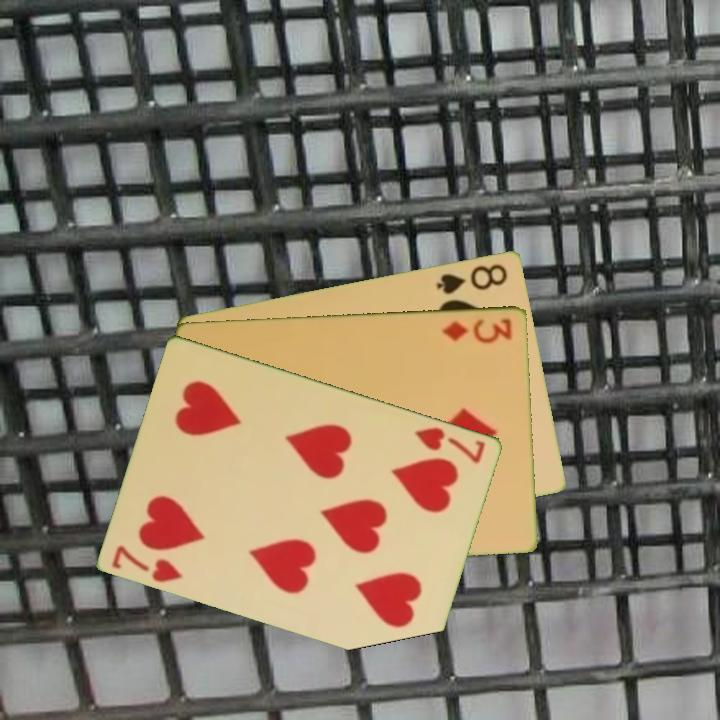3d: (439, 314, 515, 345)
7h: (108, 541, 186, 585), (412, 423, 489, 466)
8s: (433, 260, 511, 297)
